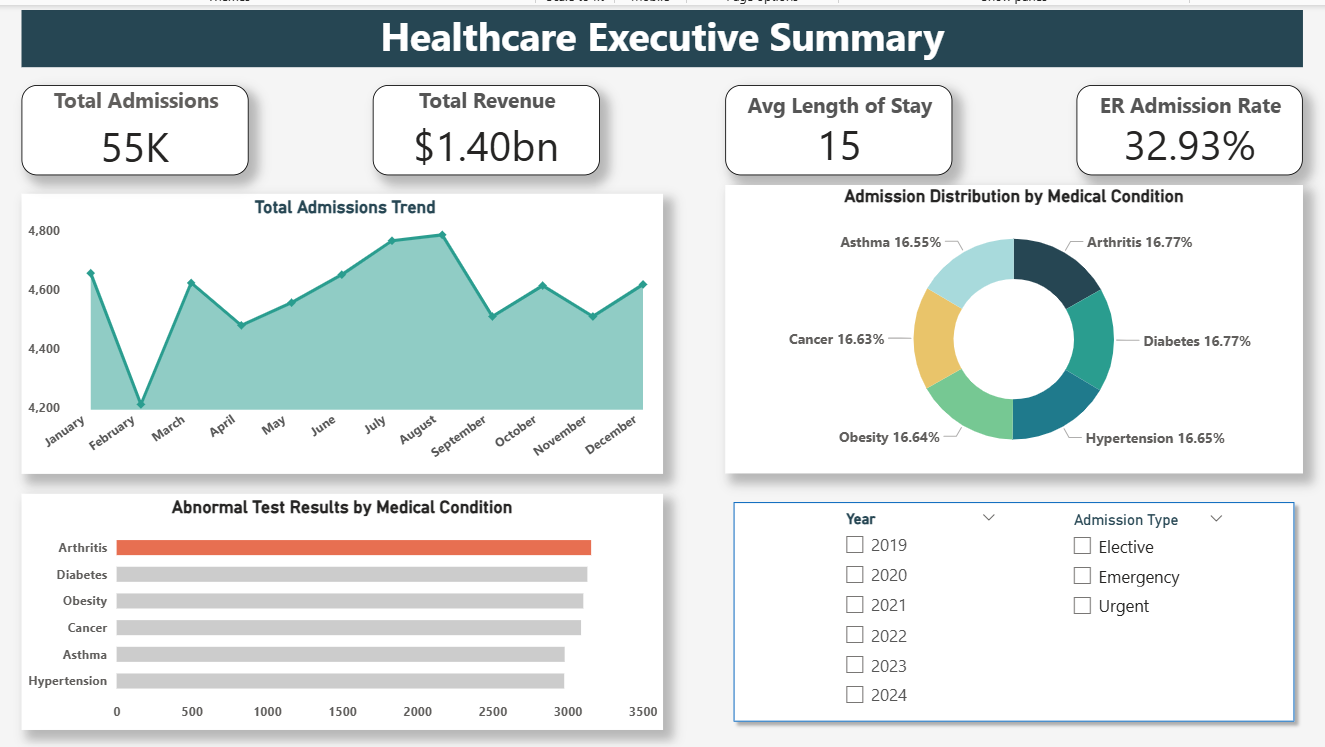

The page's visual inventory and layout, read from the dashboard file:
{"tool":"powerbi","page":{"name":"Executive Summary","canvas":[1280,720],"ordinal":0},"visuals":[{"type":"card","title":"Total Revenue","fields":{"Values":["Key Metrics.Total Revenue"]},"box":[361.1,77.2,219.6,86.9],"z":0},{"type":"card","title":"Avg Length of Stay","fields":{"Values":["Key Metrics.Avg Length of Stay"]},"box":[700.5,77.2,219.6,86.9],"z":1000},{"type":"card","title":"ER Admission Rate","fields":{"Values":["Key Metrics.ER Admission Rate"]},"box":[1040,77.2,218.4,86.9],"z":2000},{"type":"areaChart","title":"Total Admissions Trend","fields":{"Category":["Calendar.Date.Variation.Date Hierarchy.Year","Calendar.Date.Variation.Date Hierarchy.Quarter","Calendar.Date.Variation.Date Hierarchy.Month","Calendar.Date.Variation.Date Hierarchy.Day"],"Y":["Key Metrics.Total Admissions"]},"box":[21.7,182.2,618.9,270.2],"z":3000},{"type":"donutChart","title":"Admission Distribution by Medical Condition","fields":{"Category":["healthcare_dataset.Medical Condition"],"Y":["Key Metrics.Total Admissions"]},"box":[700.9,173.7,557.4,278.7],"z":4000},{"type":"shape","box":[700.9,471.7,557.4,228],"z":5000},{"type":"clusteredBarChart","title":"Abnormal Test Results by Medical Condition","fields":{"Category":["healthcare_dataset.Medical Condition"],"Y":["Key Metrics.Abnormal Results Count"]},"box":[21.7,471.7,618.9,228],"z":6000},{"type":"slicer","fields":{"Values":["healthcare_dataset.Admission Type"]},"box":[1024,484.2,169.7,203.1],"z":7000},{"type":"slicer","fields":{"Values":["Calendar.Year"]},"box":[804.2,482.8,169.7,203.1],"z":8000},{"type":"textbox","box":[21.7,4.8,1236.6,55.5],"z":9000},{"type":"card","title":"Total Admissions","fields":{"Values":["Key Metrics.Total Admissions"]},"box":[21.7,77.2,219.6,86.9],"z":10000}]}

Visuals, with their boxes on the page's 1280x720 design canvas (x1, y1, x2, y2). These are canvas units, not pixel positions in the 1325x747 screenshot, which may show the page scaled, cropped or inside an application window:
"Total Revenue" card: box(361, 77, 581, 164)
"Avg Length of Stay" card: box(700, 77, 920, 164)
"ER Admission Rate" card: box(1040, 77, 1258, 164)
"Total Admissions Trend" areaChart: box(22, 182, 641, 452)
"Admission Distribution by Medical Condition" donutChart: box(701, 174, 1258, 452)
shape: box(701, 472, 1258, 700)
"Abnormal Test Results by Medical Condition" clusteredBarChart: box(22, 472, 641, 700)
slicer - healthcare_dataset.Admission Type: box(1024, 484, 1194, 687)
slicer - Calendar.Year: box(804, 483, 974, 686)
textbox: box(22, 5, 1258, 60)
"Total Admissions" card: box(22, 77, 241, 164)
